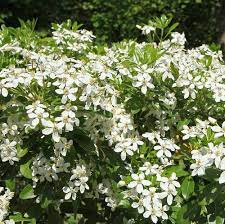flower: (1, 39, 43, 67), (178, 47, 216, 77), (36, 56, 72, 86), (173, 62, 203, 98), (0, 68, 32, 95), (89, 93, 120, 120), (31, 154, 58, 184), (90, 58, 119, 84), (154, 59, 180, 85), (92, 113, 118, 139), (187, 151, 214, 176), (130, 69, 156, 94), (50, 110, 78, 133), (135, 43, 162, 66), (53, 83, 81, 105), (95, 45, 128, 62), (127, 173, 152, 195), (113, 141, 136, 164), (113, 113, 136, 136), (25, 108, 51, 127), (1, 118, 22, 141), (180, 122, 205, 141), (207, 142, 225, 168), (59, 180, 80, 202), (159, 173, 180, 195), (43, 123, 66, 143), (51, 137, 71, 160), (69, 163, 90, 184), (103, 187, 121, 211), (153, 139, 173, 160), (158, 91, 178, 111), (0, 150, 23, 167), (141, 204, 162, 222), (73, 177, 93, 195), (145, 104, 166, 121), (209, 81, 225, 103), (81, 82, 99, 101), (96, 179, 113, 199), (136, 161, 160, 174), (0, 138, 18, 155), (169, 30, 187, 47), (19, 160, 35, 179), (1, 43, 24, 56), (52, 157, 70, 173), (1, 187, 14, 208), (19, 184, 36, 200), (77, 28, 95, 43), (76, 71, 93, 85), (137, 24, 156, 36), (28, 164, 44, 177), (141, 131, 158, 143), (63, 43, 81, 54), (141, 195, 152, 213), (158, 114, 166, 136), (152, 195, 162, 211), (51, 35, 65, 45), (211, 124, 224, 133), (218, 168, 225, 184), (207, 115, 218, 125), (213, 130, 225, 139), (111, 94, 118, 107), (127, 180, 138, 188), (199, 147, 208, 156), (1, 88, 9, 98), (130, 173, 139, 181), (117, 180, 126, 187), (135, 24, 144, 30), (32, 30, 34, 39)
